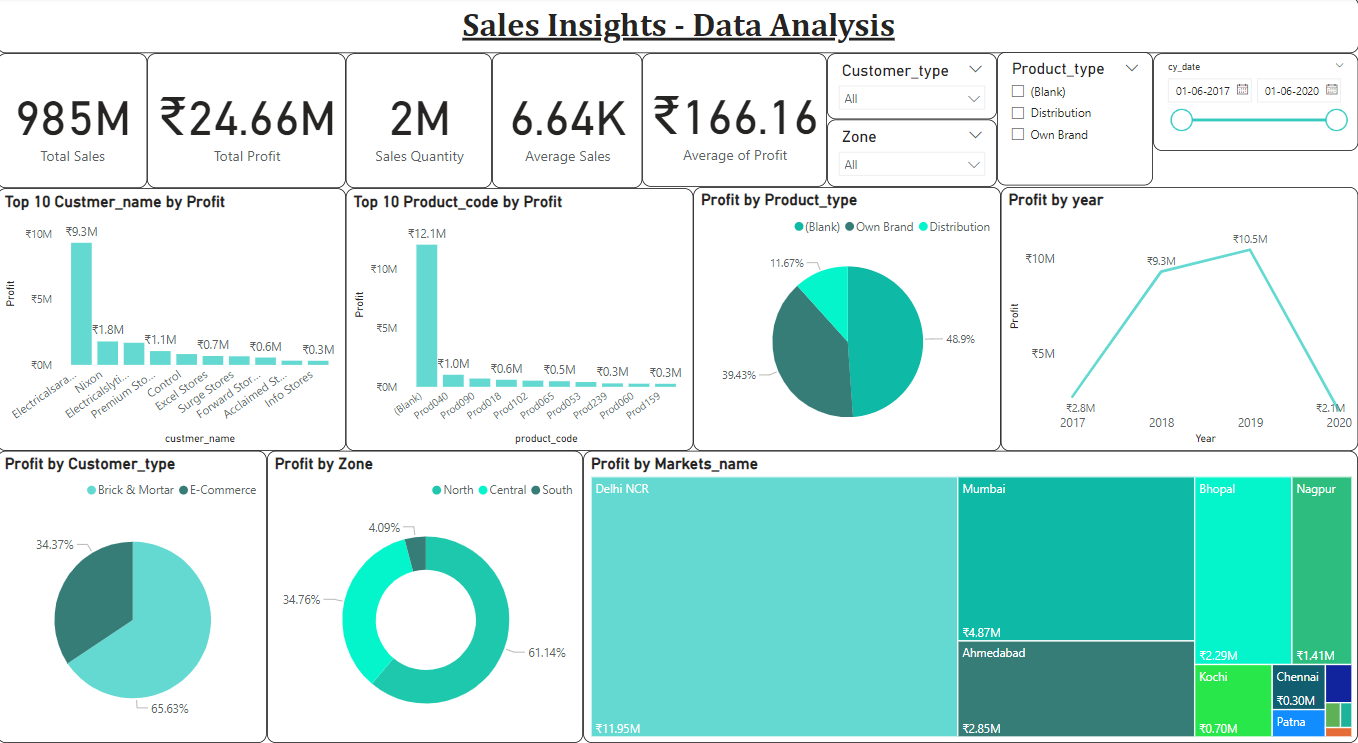

This screenshot's page, from the dashboard's own definition file:
{"tool":"powerbi","page":{"name":"Key Insights - Profit Analysis","canvas":[1550,850],"ordinal":1},"visuals":[{"type":"textbox","box":[0,0,1551,63.9],"z":0},{"type":"card","fields":{"Values":["sales transactions.norm_sales_amount"]},"box":[0,64.1,170.9,153.8],"z":1000},{"type":"card","fields":{"Values":["sales transactions.Profit_Margin"]},"box":[170.9,64.1,226.4,153.8],"z":2000},{"type":"card","fields":{"Values":["sales transactions.sales_qty"]},"box":[397.2,64.1,166.6,153.8],"z":3000},{"type":"card","fields":{"Values":["sales transactions.norm_sales_amount"]},"box":[563.8,64.1,170.9,153.8],"z":4000},{"type":"slicer","fields":{"Values":["sales Customer.customer_type"]},"box":[945.4,64.1,193.6,75.5],"z":5000},{"type":"slicer","fields":{"Values":["sales market.zone"]},"box":[945.4,139.5,193.6,76.9],"z":6000},{"type":"slicer","fields":{"Values":["sales product.product_type"]},"box":[1139,62.6,178,152.3],"z":7000},{"type":"card","fields":{"Values":["sales transactions.Profit_Margin"]},"box":[734.7,64.1,210.7,152.3],"z":8000},{"type":"slicer","fields":{"Values":["sales Date.cy_date"]},"box":[1317,64.1,233.5,111.1],"z":9000},{"type":"clusteredColumnChart","title":"Top 10 Custmer_name by Profit","fields":{"Category":["sales Customer.custmer_name"],"Y":["sales transactions.Profit_Margin"]},"box":[0,217.8,397.2,299],"z":10000},{"type":"clusteredColumnChart","title":"Top 10 Product_code by Profit","fields":{"Category":["sales product.product_code"],"Y":["sales transactions.Profit_Margin"]},"box":[397.2,217.8,395.8,299],"z":11000},{"type":"pieChart","title":"Profit by Customer_type","fields":{"Category":["sales Customer.customer_type"],"Y":["sales transactions.Profit_Margin"]},"box":[0,516.8,307.5,333.2],"z":12000},{"type":"donutChart","title":"Profit by Zone","fields":{"Category":["sales market.zone"],"Y":["sales transactions.Profit_Margin"]},"box":[307.5,516.8,360.2,333.2],"z":13000},{"type":"pieChart","title":"Profit by Product_type","fields":{"Category":["sales product.product_type"],"Y":["sales transactions.Profit_Margin"]},"box":[793,216.4,350.3,300.4],"z":14000},{"type":"treemap","title":"Profit by Markets_name","fields":{"Group":["sales market.markets_name"],"Values":["sales transactions.Profit_Margin"]},"box":[667.3,516.8,882.7,333.2],"z":15000},{"type":"lineChart","title":"Profit by year","fields":{"Category":["sales Date.cy_date.Variation.Date Hierarchy.Year","sales Date.cy_date.Variation.Date Hierarchy.Quarter","sales Date.cy_date.Variation.Date Hierarchy.Month","sales Date.cy_date.Variation.Date Hierarchy.Day"],"Y":["sales transactions.Profit_Margin"]},"box":[1143.3,216.4,407.2,300.4],"z":16000}]}

Visuals, with their boxes in screenshot pixels (x1, y1, x2, y2), scaled from the page's 1550x850 canvas onto the 1358x743 screenshot:
textbox: 0, 0, 1357, 56
card - sales transactions.norm_sales_amount: 0, 56, 150, 190
card - sales transactions.Profit_Margin: 150, 56, 348, 190
card - sales transactions.sales_qty: 348, 56, 494, 190
card - sales transactions.norm_sales_amount: 494, 56, 644, 190
slicer - sales Customer.customer_type: 828, 56, 998, 122
slicer - sales market.zone: 828, 122, 998, 189
slicer - sales product.product_type: 998, 55, 1154, 188
card - sales transactions.Profit_Margin: 644, 56, 828, 189
slicer - sales Date.cy_date: 1154, 56, 1357, 153
"Top 10 Custmer_name by Profit" clusteredColumnChart: 0, 190, 348, 452
"Top 10 Product_code by Profit" clusteredColumnChart: 348, 190, 695, 452
"Profit by Customer_type" pieChart: 0, 452, 269, 742
"Profit by Zone" donutChart: 269, 452, 585, 742
"Profit by Product_type" pieChart: 695, 189, 1002, 452
"Profit by Markets_name" treemap: 585, 452, 1357, 742
"Profit by year" lineChart: 1002, 189, 1357, 452
